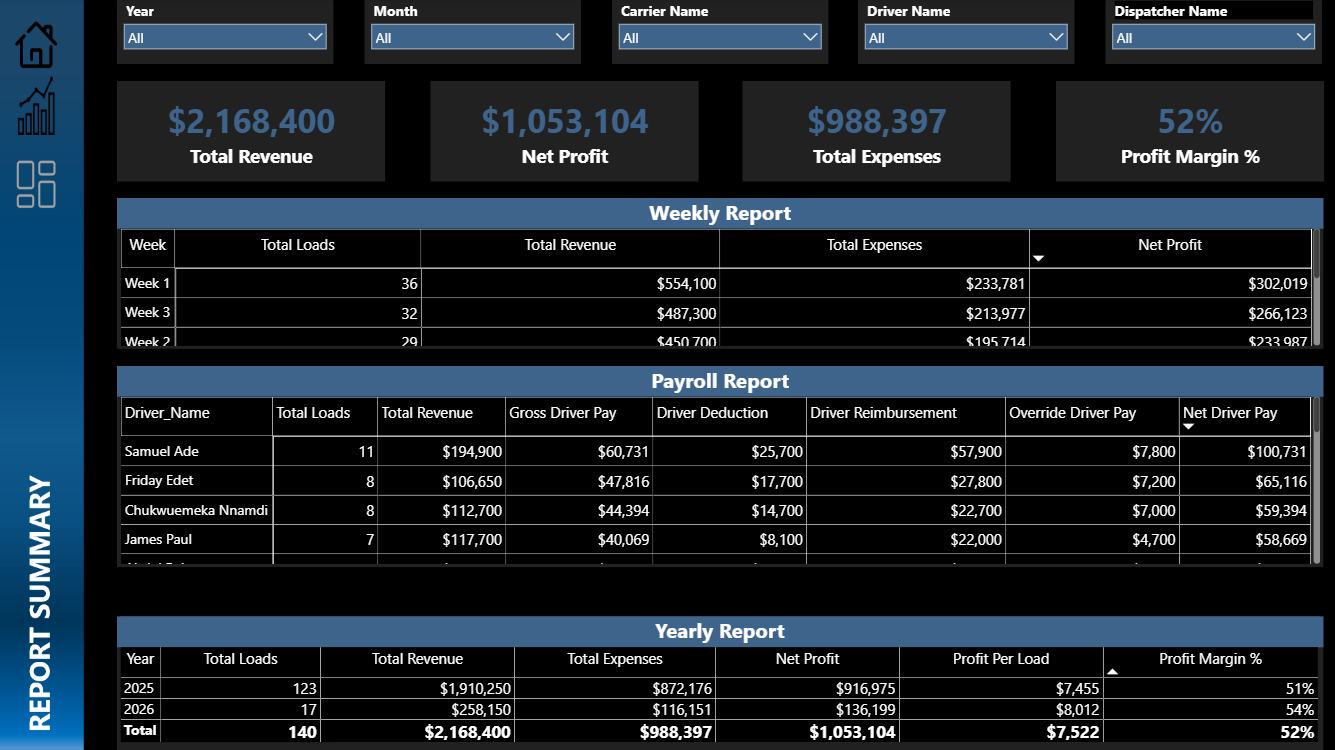

This screenshot's page, from the dashboard's own definition file:
{"tool":"powerbi","page":{"name":"REPORT SUMMARY","canvas":[1920,1080],"ordinal":2},"visuals":[{"type":"pivotTable","title":"Weekly Report","fields":{"Rows":["Date_Table.Week"],"Values":["KPI_Measures.Total Loads","KPI_Measures.Total Revenue","KPI_Measures.Load Expenses","KPI_Measures.Total Profit"]},"box":[168,288,1728,216],"z":0},{"type":"pivotTable","title":"Payroll Report","fields":{"Rows":["Load_Data.Driver_Name"],"Values":["KPI_Measures.Total Loads","KPI_Measures.Total Revenue","KPI_Measures.Driver Pay","KPI_Measures.Driver Deduction","KPI_Measures.Driver Reimbursement","KPI_Measures.Override Driver Pay","KPI_Measures.Net Driver Cost"]},"box":[168,528,1728,288],"z":1000},{"type":"pivotTable","title":"Yearly Report","fields":{"Rows":["Date_Table.Year"],"Values":["KPI_Measures.Total Loads","KPI_Measures.Total Revenue","KPI_Measures.Total Expenses","KPI_Measures.Net Profit","KPI_Measures.Profit Per Load","KPI_Measures.Profit Margin %"]},"box":[168,888,1728,192],"z":2000},{"type":"slicer","fields":{"Values":["Date_Table.Month"]},"box":[522,0,310,96],"z":3000},{"type":"slicer","fields":{"Values":["Load_Data.Dispatcher_Name"]},"box":[1584,0,310,96],"z":4000},{"type":"slicer","fields":{"Values":["Load_Data.Carrier_Name"]},"box":[876,0,310,96],"z":5000},{"type":"slicer","fields":{"Values":["Date_Table.Year"]},"box":[168,0,310,96],"z":6000},{"type":"card","fields":{"Values":["KPI_Measures.Net Profit"]},"box":[616,120,384,144],"z":7000},{"type":"card","fields":{"Values":["KPI_Measures.Total Expenses"]},"box":[1064,120,384,144],"z":8000},{"type":"card","fields":{"Values":["KPI_Measures.Total Revenue"]},"box":[168,120,384,144],"z":9000},{"type":"card","fields":{"Values":["KPI_Measures.Profit Margin %"]},"box":[1512,120,384,144],"z":10000},{"type":"image","box":[0,0,120,1080],"z":11000},{"type":"actionButton","box":[24,24,72,96],"z":12000},{"type":"actionButton","box":[0,120,96,96],"z":13000},{"type":"actionButton","box":[0,216,96,96],"z":14000},{"type":"slicer","fields":{"Values":["Load_Data.Driver_Name"]},"box":[1230,0,310,96],"z":15000}]}

Visuals, with their boxes on the page's 1920x1080 design canvas (x1, y1, x2, y2). These are canvas units, not pixel positions in the 1335x750 screenshot, which may show the page scaled, cropped or inside an application window:
"Weekly Report" pivotTable: [x1=168, y1=288, x2=1896, y2=504]
"Payroll Report" pivotTable: [x1=168, y1=528, x2=1896, y2=816]
"Yearly Report" pivotTable: [x1=168, y1=888, x2=1896, y2=1080]
slicer - Date_Table.Month: [x1=522, y1=0, x2=832, y2=96]
slicer - Load_Data.Dispatcher_Name: [x1=1584, y1=0, x2=1894, y2=96]
slicer - Load_Data.Carrier_Name: [x1=876, y1=0, x2=1186, y2=96]
slicer - Date_Table.Year: [x1=168, y1=0, x2=478, y2=96]
card - KPI_Measures.Net Profit: [x1=616, y1=120, x2=1000, y2=264]
card - KPI_Measures.Total Expenses: [x1=1064, y1=120, x2=1448, y2=264]
card - KPI_Measures.Total Revenue: [x1=168, y1=120, x2=552, y2=264]
card - KPI_Measures.Profit Margin %: [x1=1512, y1=120, x2=1896, y2=264]
image: [x1=0, y1=0, x2=120, y2=1080]
actionButton: [x1=24, y1=24, x2=96, y2=120]
actionButton: [x1=0, y1=120, x2=96, y2=216]
actionButton: [x1=0, y1=216, x2=96, y2=312]
slicer - Load_Data.Driver_Name: [x1=1230, y1=0, x2=1540, y2=96]
